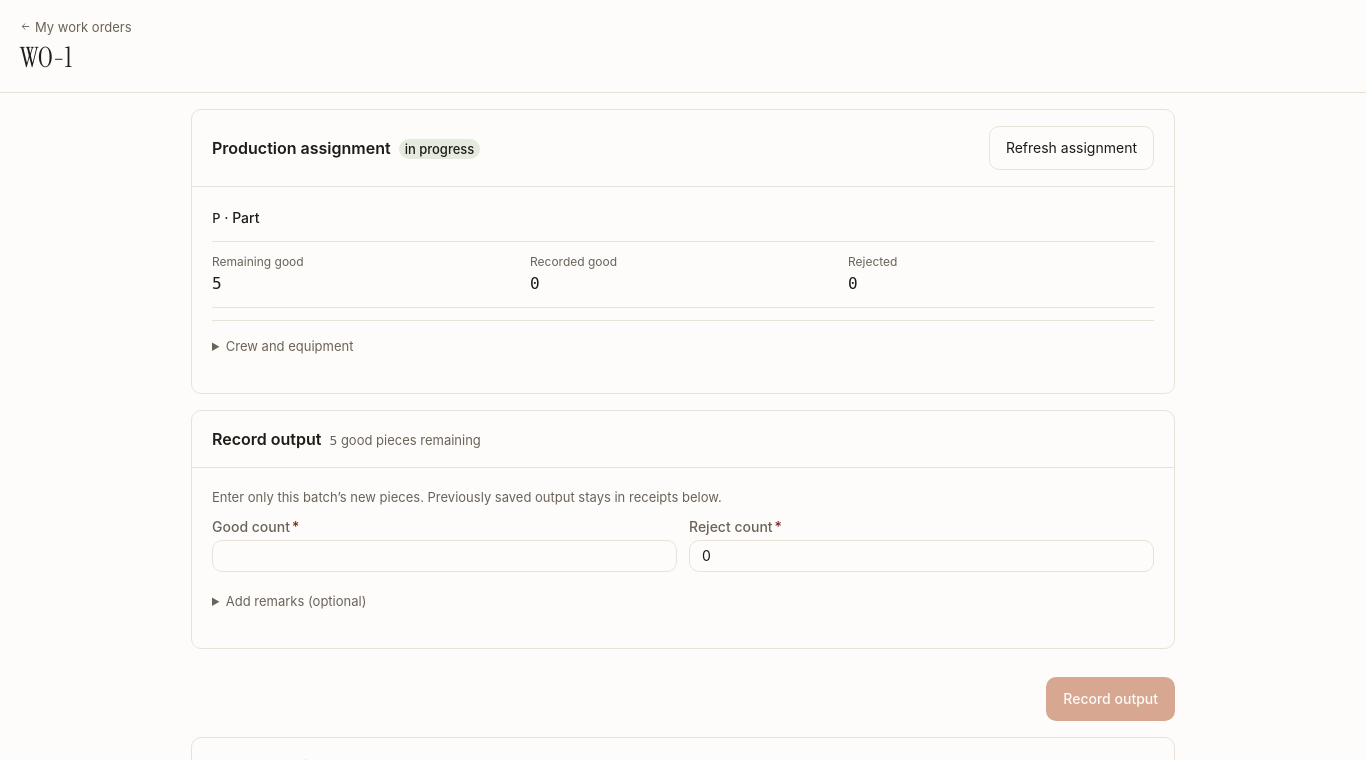
Test: worker output › retries unknown outcomes with exactly the original payload and key
This screenshot has width=1366, height=760.
Check: the heading "Production assignment" is shown, box [212,136,391,160]
Type "2" into the number field labelled "Good count" at (444, 556), box [213,541,676,571]
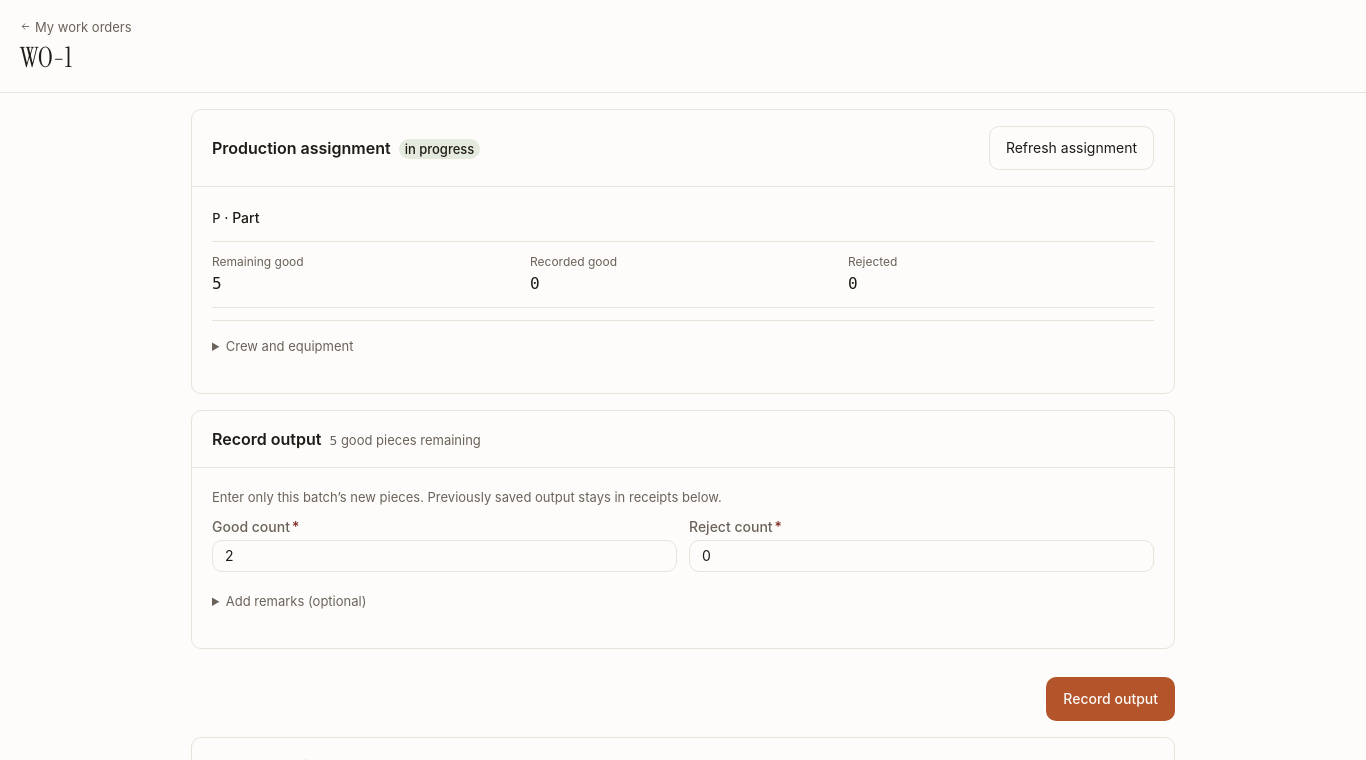
Click the button "Record output" at (1111, 699), box [1046,677,1175,721]
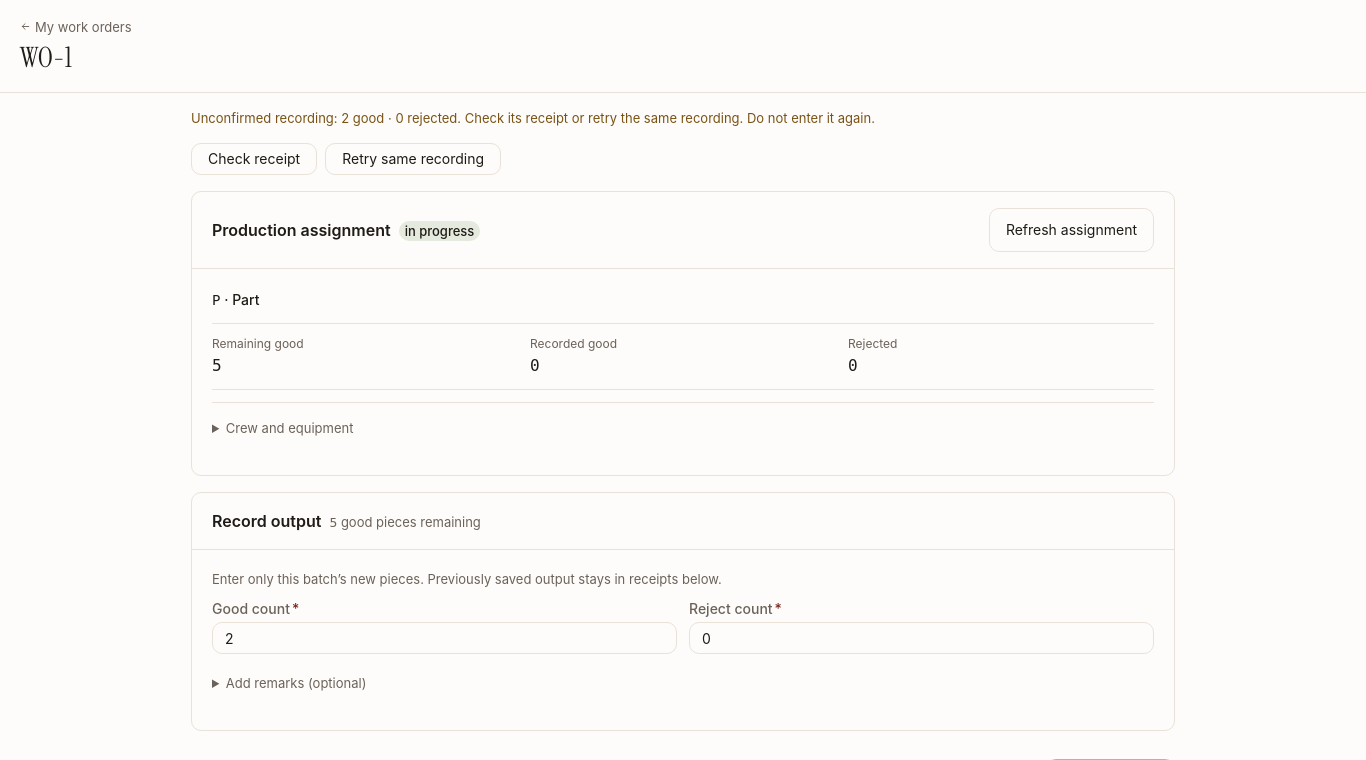
Check: the number field labelled "Good count" is disabled, box [213,624,676,654]
Click the button "Retry same recording" at (413, 159), box [325,143,501,175]
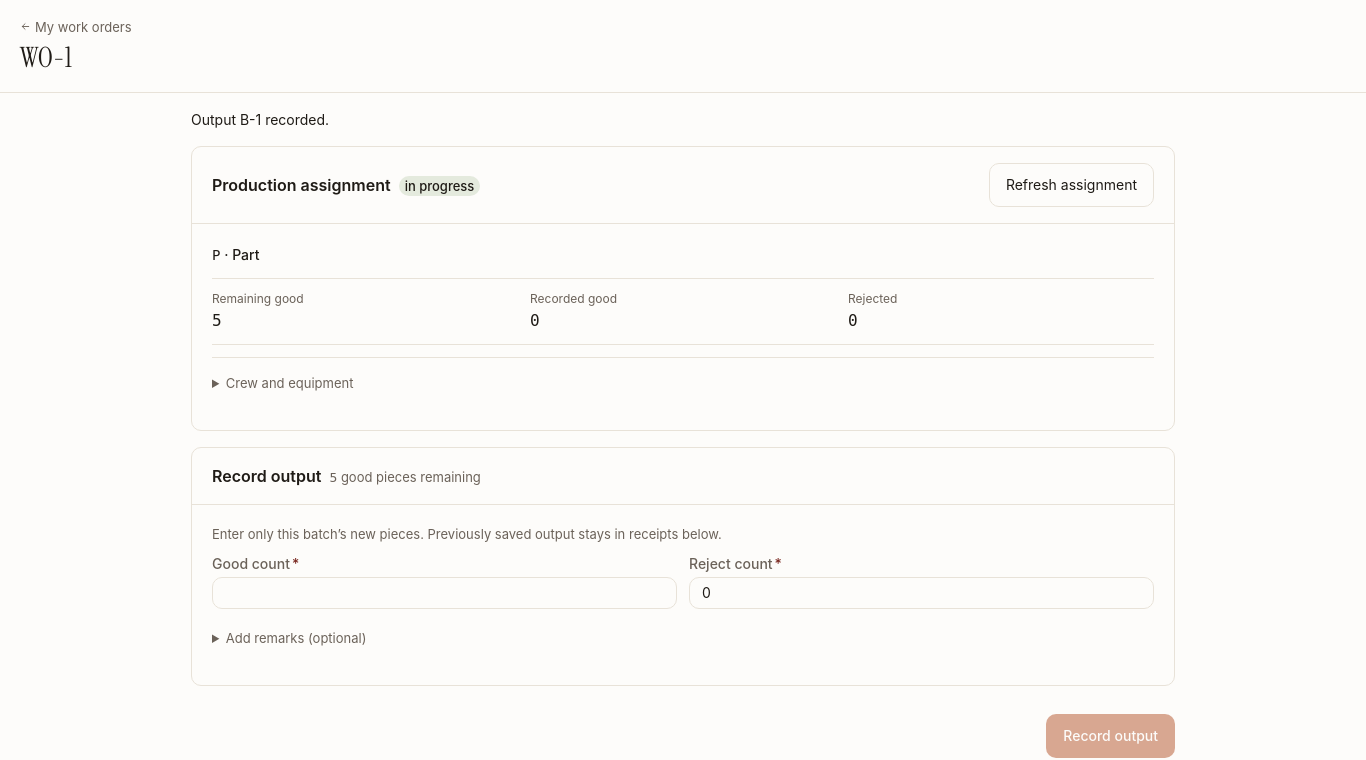
Check: the text "Output B-1 recorded." is shown, box [191,110,329,128]
